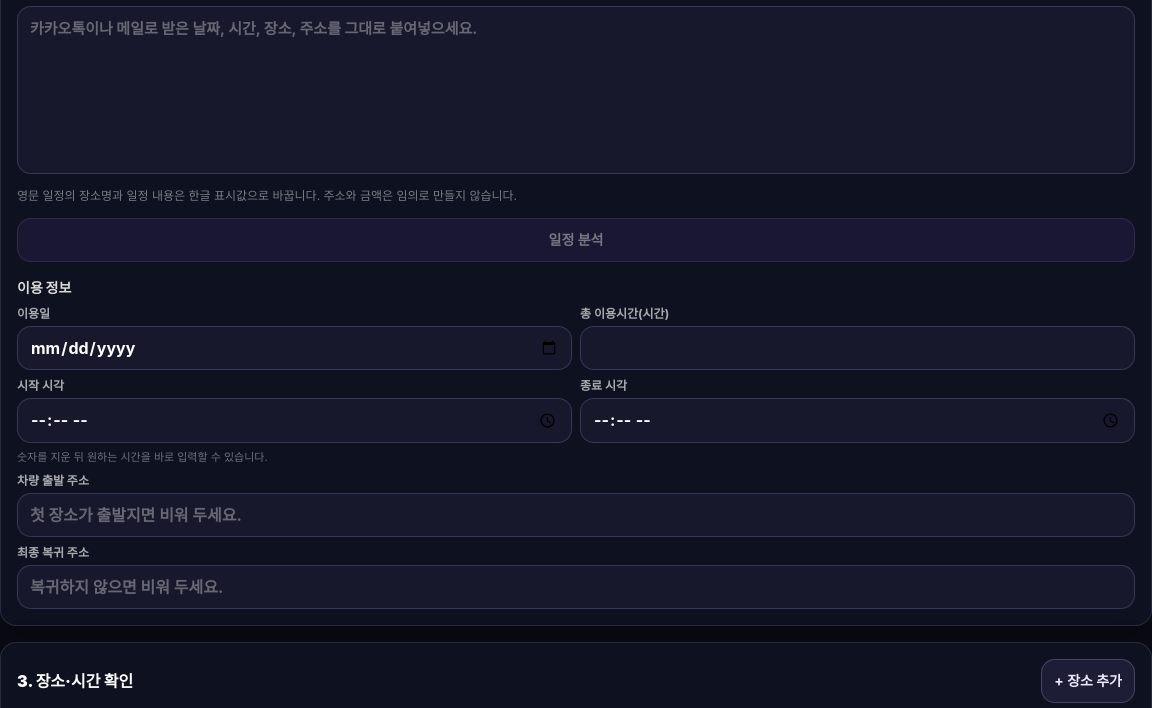
Test case: mood vehicle quote builder › keeps manual schedule entry usable without an AI confirmation gate
The image size is (1152, 708).
(page scrolled)
In the date field labelled "이용일": (294, 348) left=17, top=326, right=572, bottom=370, type "2026-09-01"
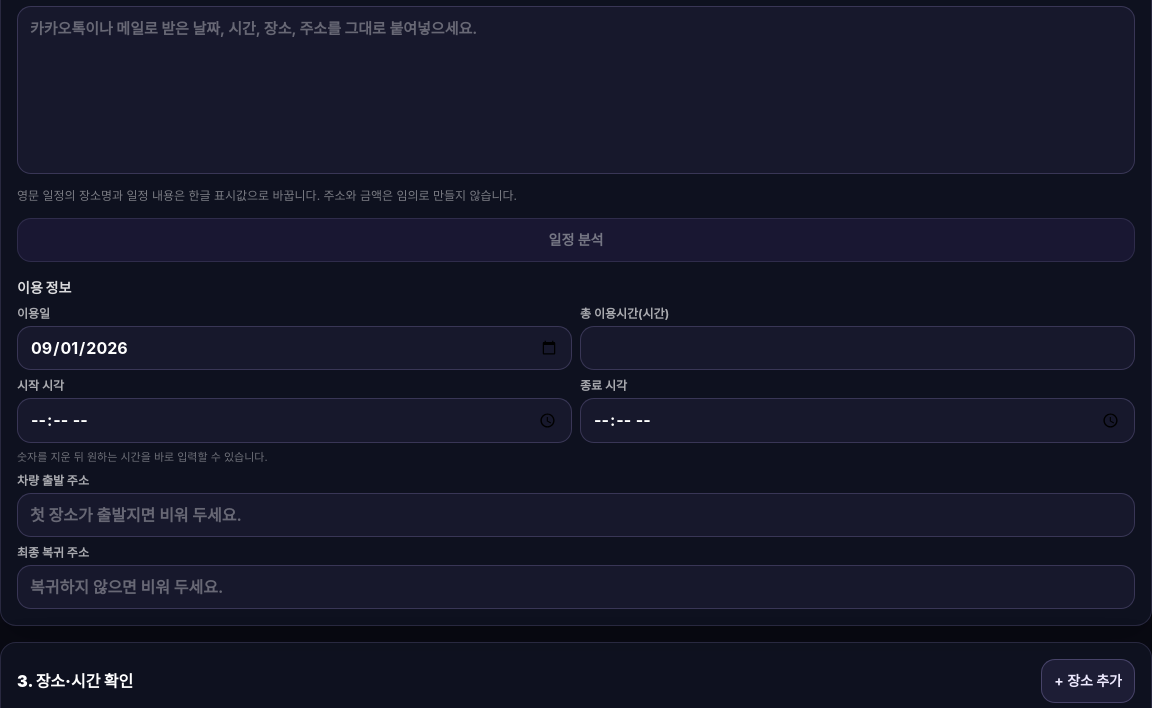
In the number field labelled "총 이용시간(시간)": (858, 348) left=580, top=326, right=1135, bottom=370, type "6"
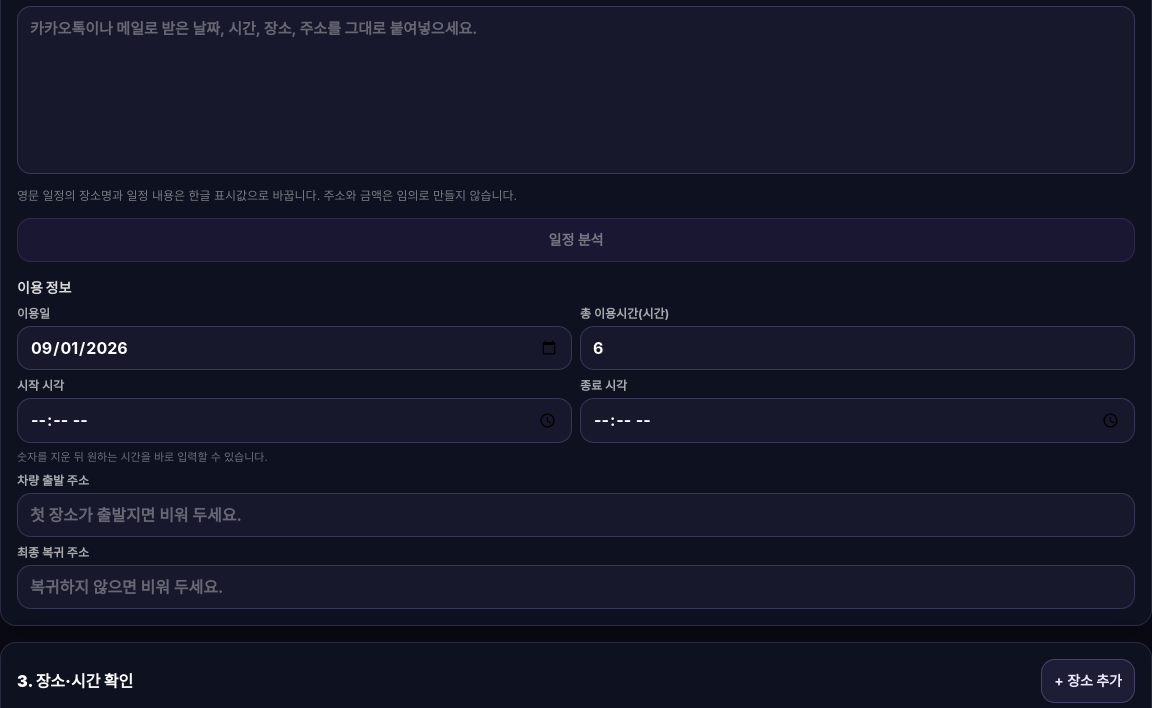
In the time field labelled "시작 시각": (294, 420) left=17, top=398, right=572, bottom=443, type "08:00"
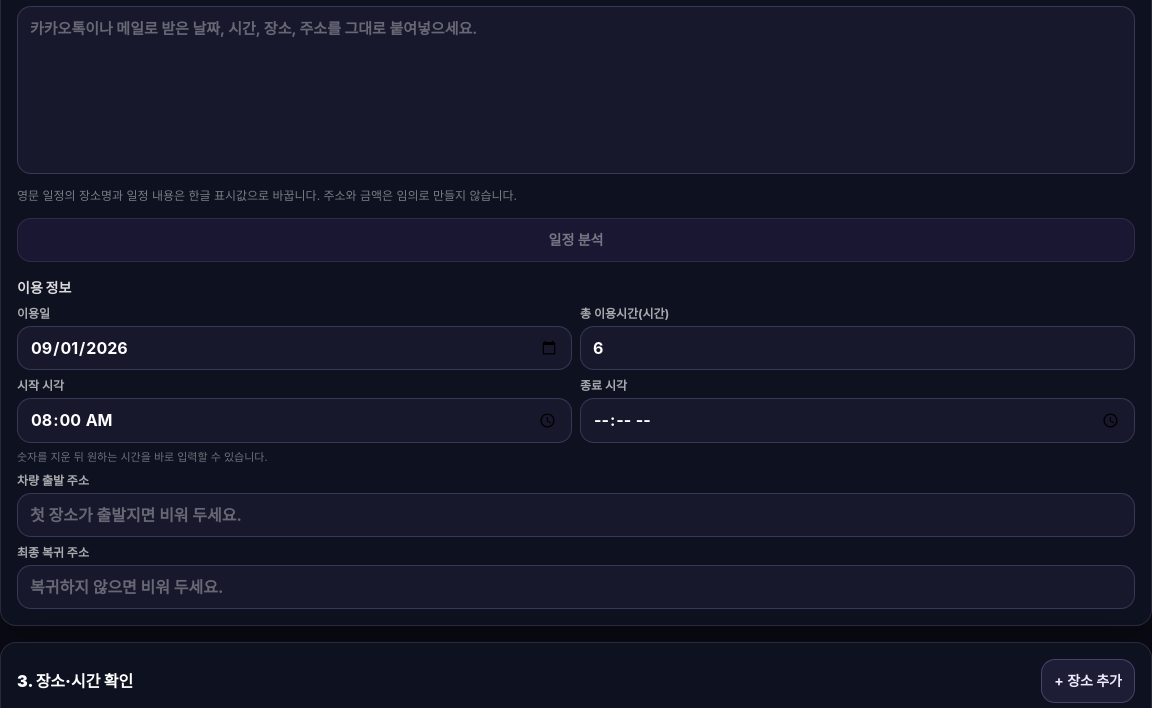
In the time field labelled "종료 시각": (858, 420) left=580, top=398, right=1135, bottom=443, type "14:00"
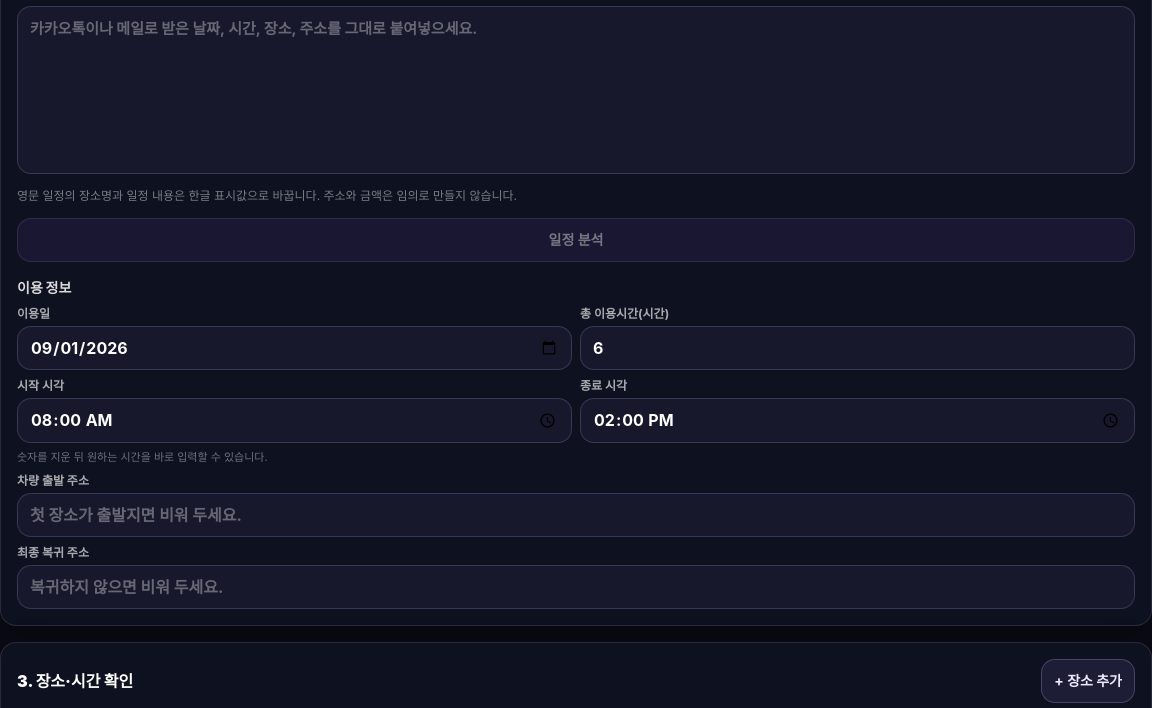
In the field labelled "차량 출발 주소": (576, 515) left=17, top=493, right=1135, bottom=537, type "서울 출발지"
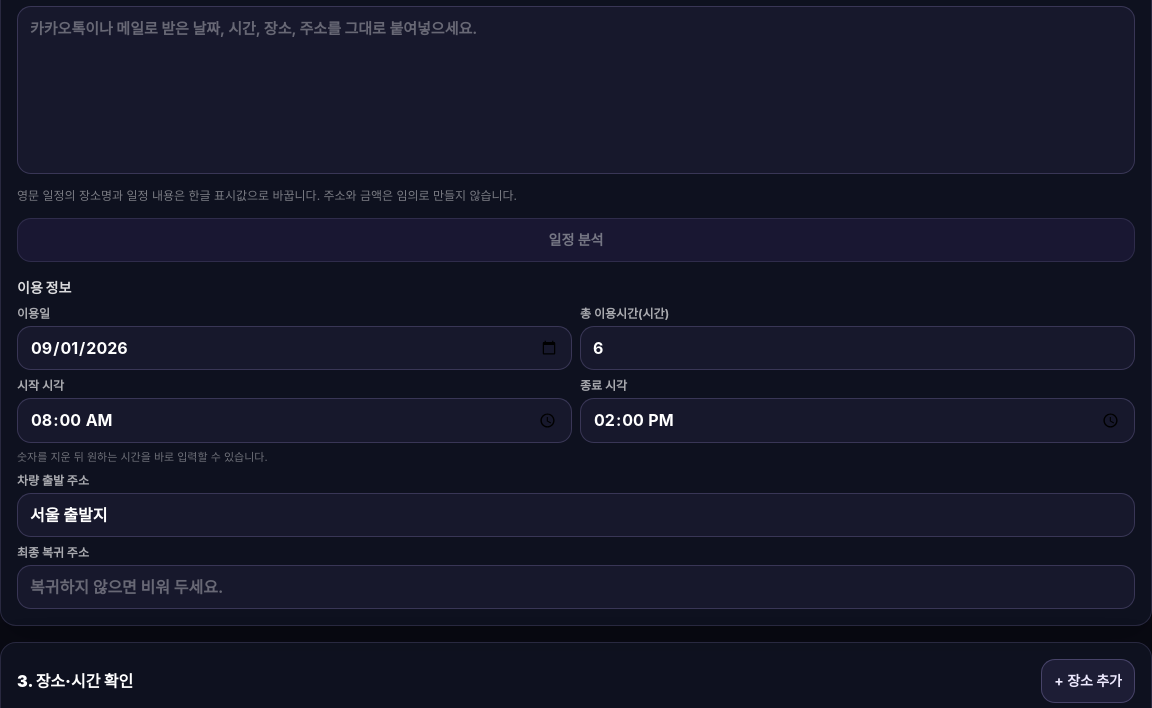
In the field labelled "최종 복귀 주소": (576, 587) left=17, top=565, right=1135, bottom=609, type "서울 복귀지"
(page scrolled)
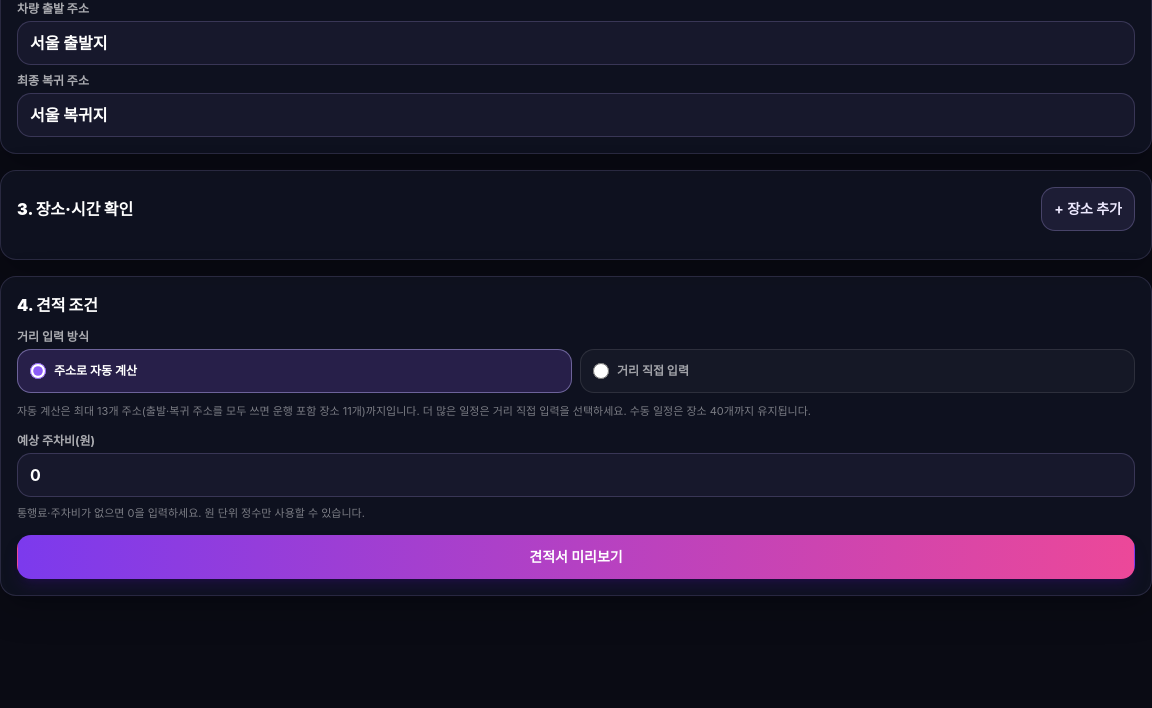
Expected: the button "견적서 미리보기" is enabled, left=17, top=535, right=1135, bottom=579
